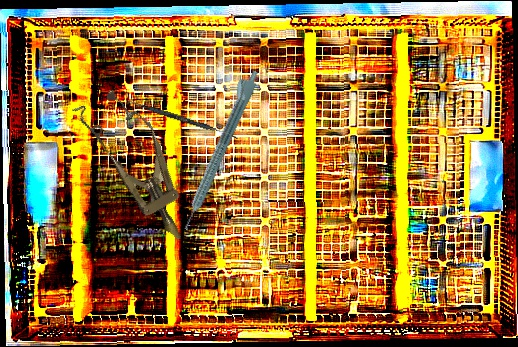Handpiece: (173, 65, 262, 233)
Spatula Surgical: (124, 98, 240, 140)
Speculum: (71, 79, 207, 255)
